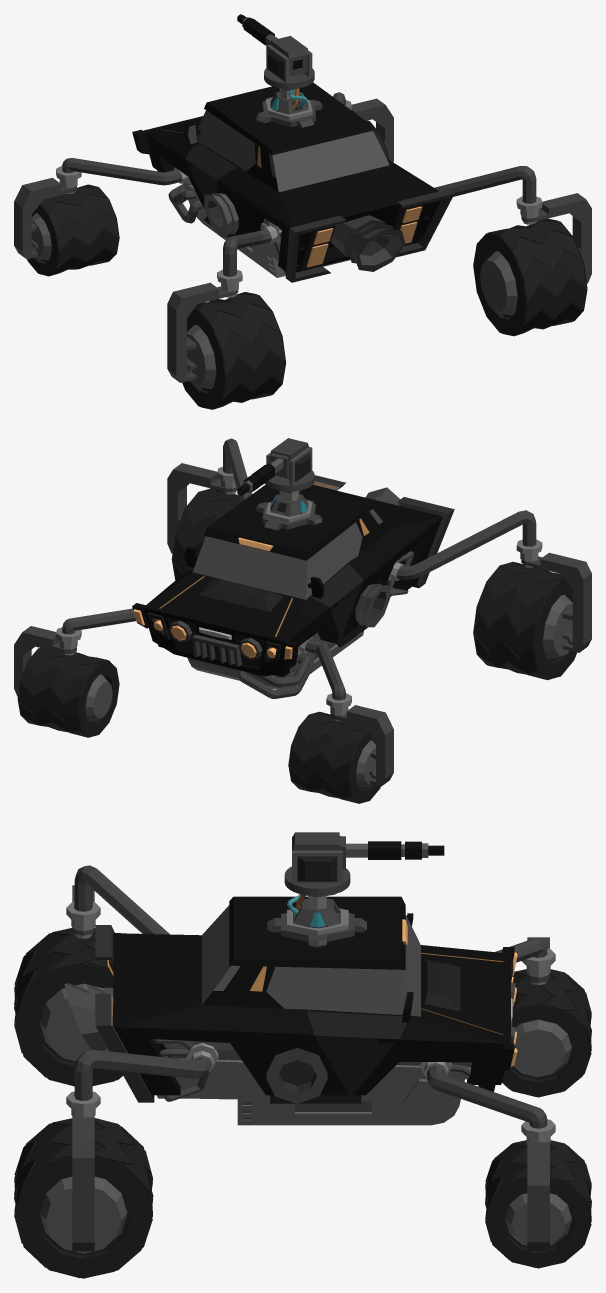
File: Tank.fbx
The picture shows the model from 3 angles, top to bottom: view 1: azimuth 30°, elevation 25°; view 2: azimuth 150°, elevation 25°; view 3: azimuth 270°, elevation 25°; orthographic projection. The views are drawn at different scales.
Visible parts, largest first — view 1: 1. Body (Main), Tire (4).001, Tire (3).001, Tire (1).001, 2.2. Gun Head, Circle.003, Rear Legs, Circle.001, Circle.005, Front Legs, 2.1. Gun Base, UnderSide (+2 smaller); view 2: 1. Body (Main), Tire (3).001, Tire (2).001, Tire (1).001, Rear Legs, Circle.003, 2.2. Gun Head, Tire (4).001, Circle.001, Front Legs, Circle.005, 2.1. Gun Base (+3 smaller); view 3: 1. Body (Main), Tire (4).001, UnderSide, Tire (3).001, Tire (2).001, Tire (1).001, Rear Legs, 2.2. Gun Head, Circle.005, 2.1. Gun Base, Front Legs, Circle.006 (+5 smaller).
Boxes of the visible parts, x1,y1,x2,y2 form: 1. Body (Main): (132,82,454,282); Tire (4).001: (473,218,587,336); Tire (3).001: (182,292,285,409); Tire (1).001: (27,184,119,276); 2.2. Gun Head: (237,14,314,88); Circle.003: (167,282,238,382); Rear Legs: (223,166,536,276); Circle.001: (14,177,76,259); Circle.005: (521,193,591,283); Front Legs: (62,92,345,185); 2.1. Gun Base: (256,88,322,127); UnderSide: (183,182,350,277); 1. Body (Main): (132,475,454,676); Tire (3).001: (473,561,576,680); Tire (2).001: (17,648,119,737); Tire (1).001: (288,711,380,803); Rear Legs: (223,438,536,579); Circle.003: (521,552,591,652); 2.2. Gun Head: (237,438,314,495); Tire (4).001: (171,488,240,580); Circle.001: (330,705,393,786); Front Legs: (62,608,345,700); Circle.005: (167,463,237,553); 2.1. Gun Base: (256,490,322,530); 1. Body (Main): (64,896,517,1103); Tire (4).001: (14,1118,153,1278); UnderSide: (157,1041,472,1125); Tire (3).001: (14,928,122,1086); Tire (2).001: (485,1140,591,1268); Tire (1).001: (502,969,591,1097); Rear Legs: (74,865,211,1100); 2.2. Gun Head: (284,832,444,896); Circle.005: (72,1116,94,1251); 2.1. Gun Base: (267,894,366,947); Front Legs: (427,938,547,1128); Circle.006: (527,1142,549,1250).
Size of the model in its own units: 5.06 by 4.71 by 2.93.
Materials: 1 (1 with a texture image).
